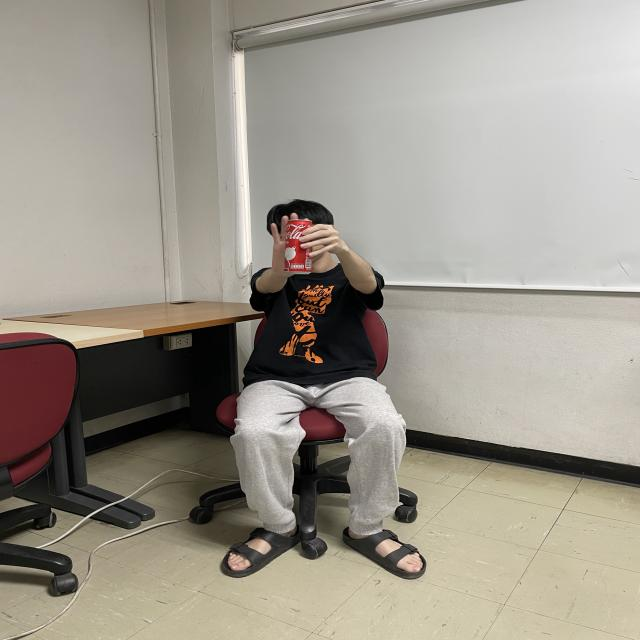can: (284, 218, 314, 276)
